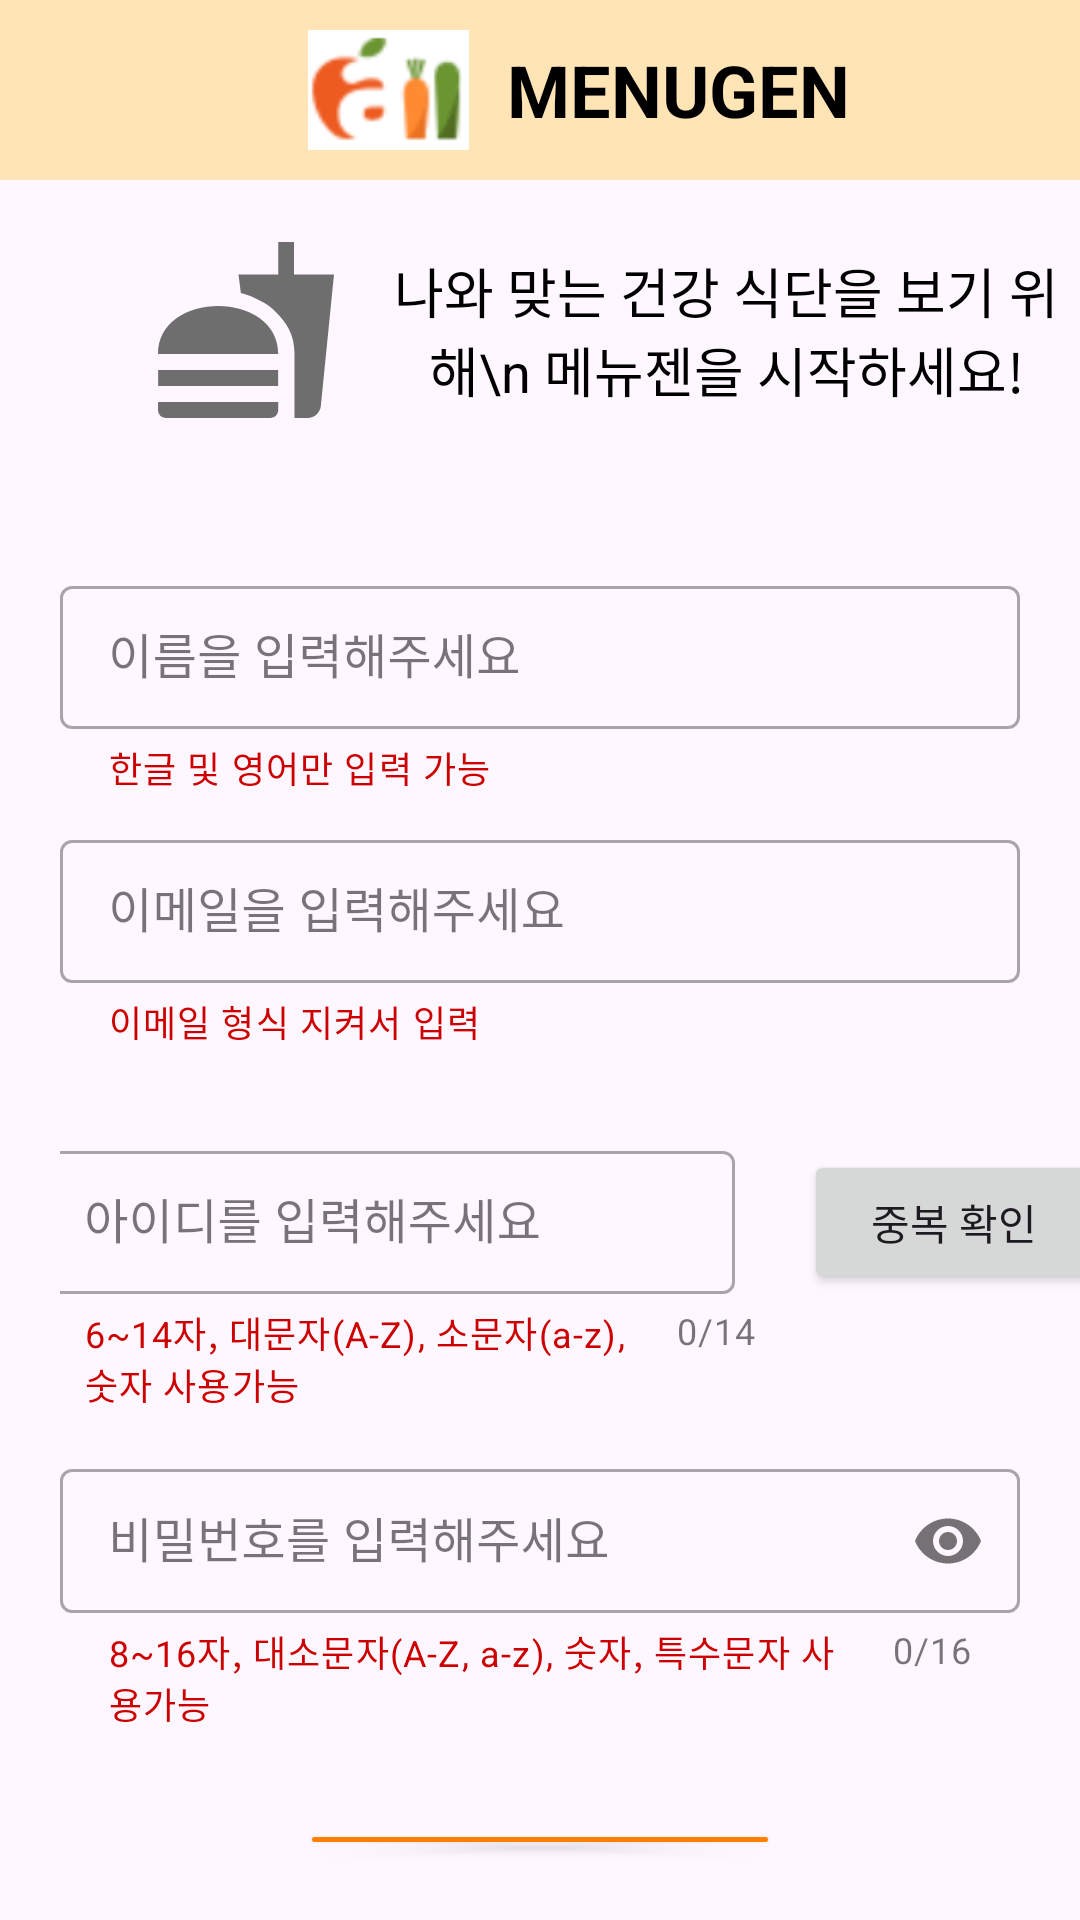

Icon bounding boxes for this 1080 x 1920 phone screenshot, format (x1, y1, x2, y2):
food: (158, 242, 334, 418)
